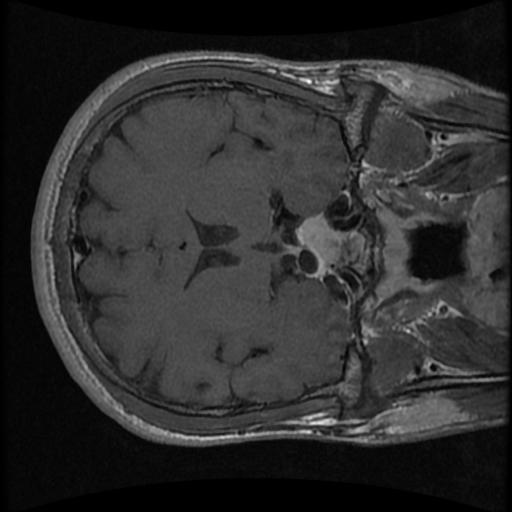pituitary tumour: (296, 215, 343, 265)
